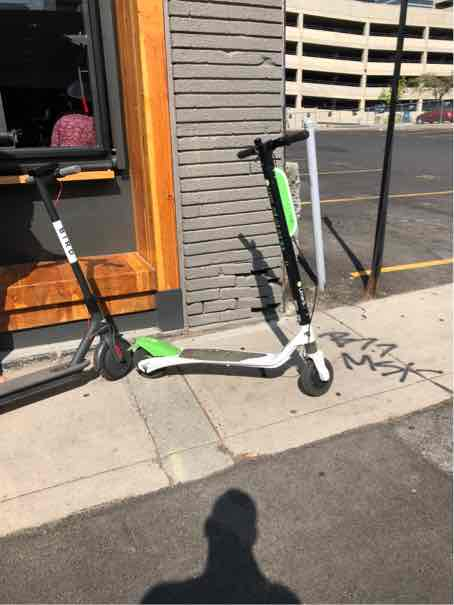scooter: (112, 122, 342, 393)
